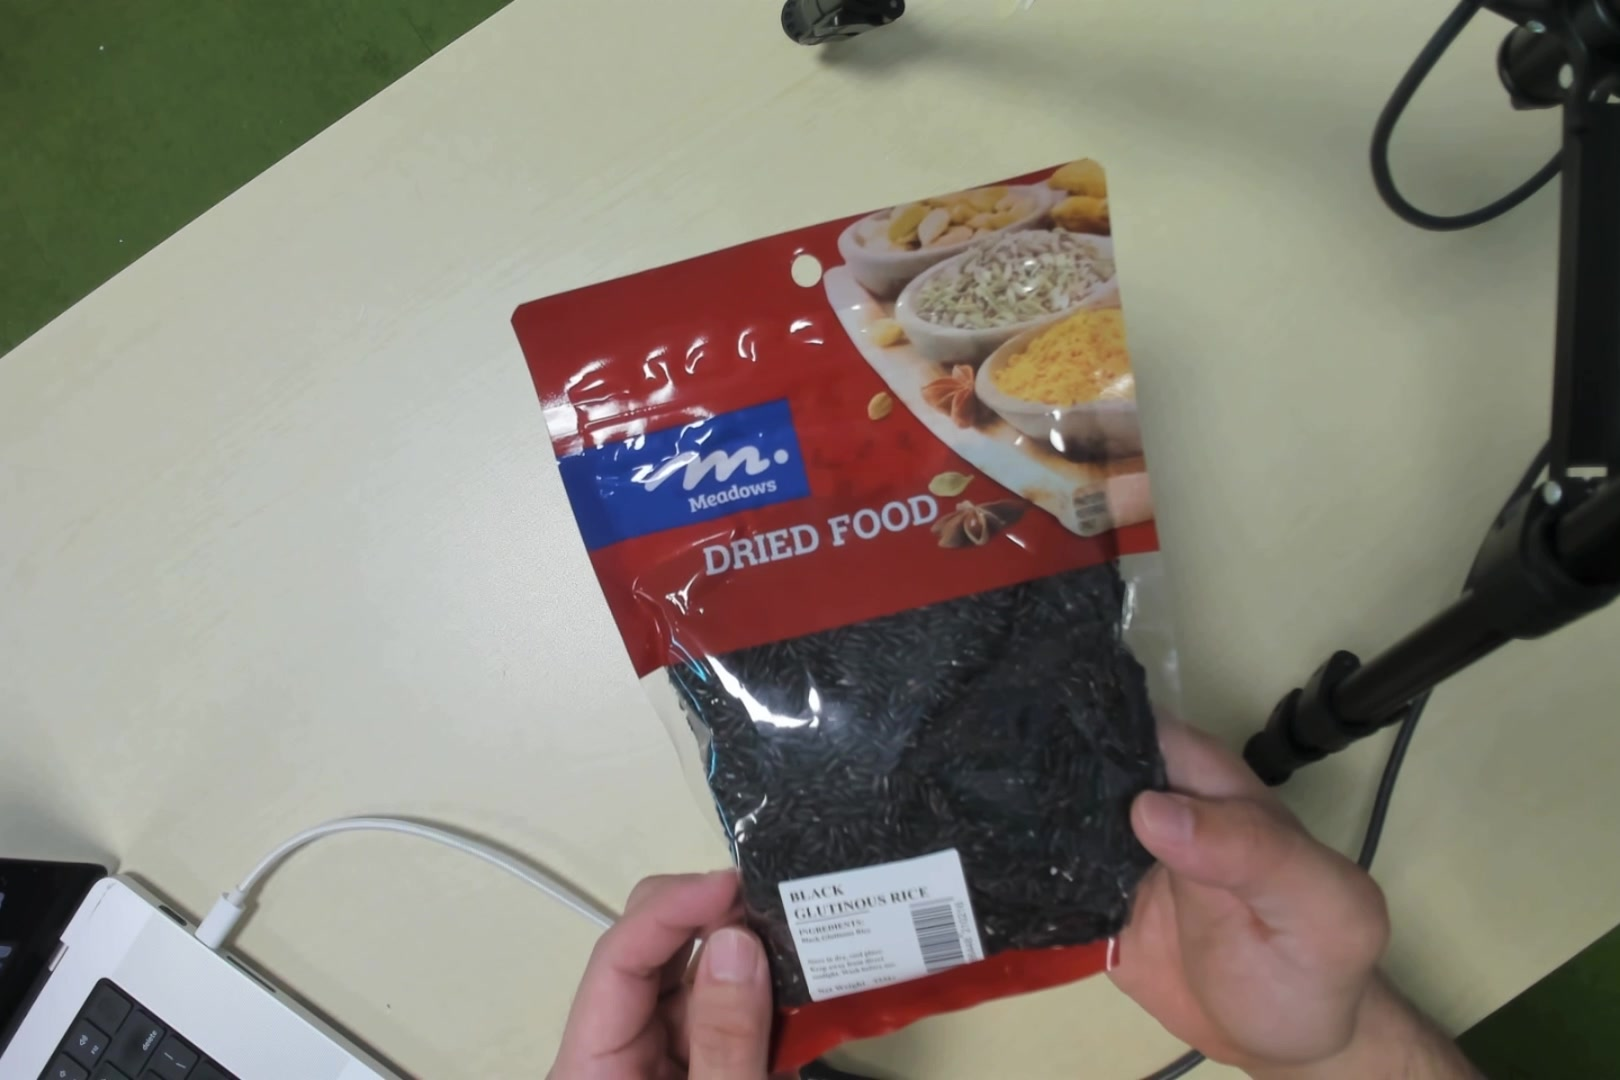OtherDriedFood_100-199g_NonHalal_NonHealthy: (636, 209, 1156, 994)
